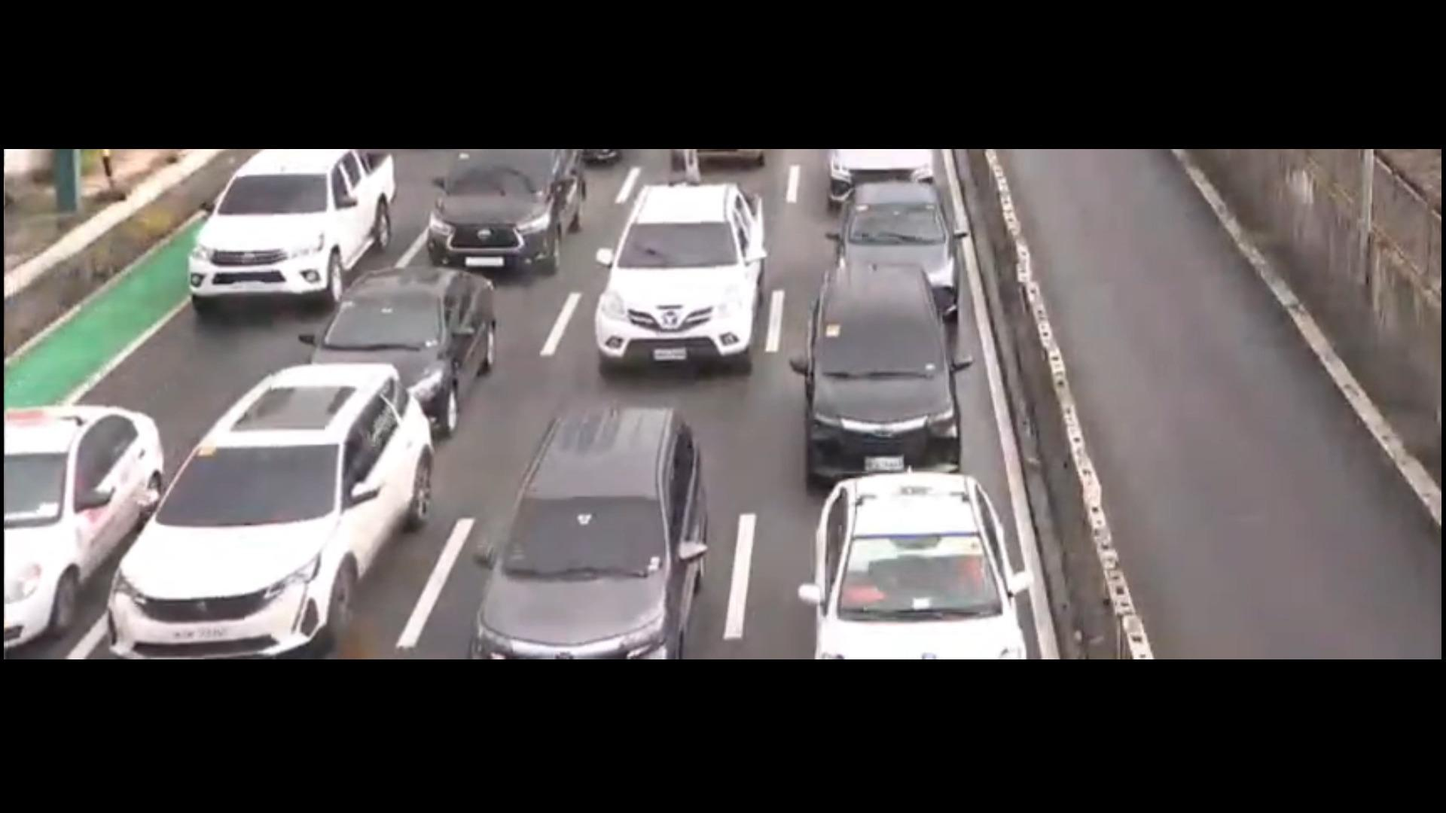Pickup: (561, 177, 795, 420), (167, 149, 398, 322)
SUV: (96, 352, 462, 646), (457, 397, 714, 658), (784, 258, 966, 500), (409, 142, 599, 268)
Sedan: (0, 375, 174, 652), (810, 473, 1023, 657), (304, 247, 518, 425), (814, 157, 987, 310)
